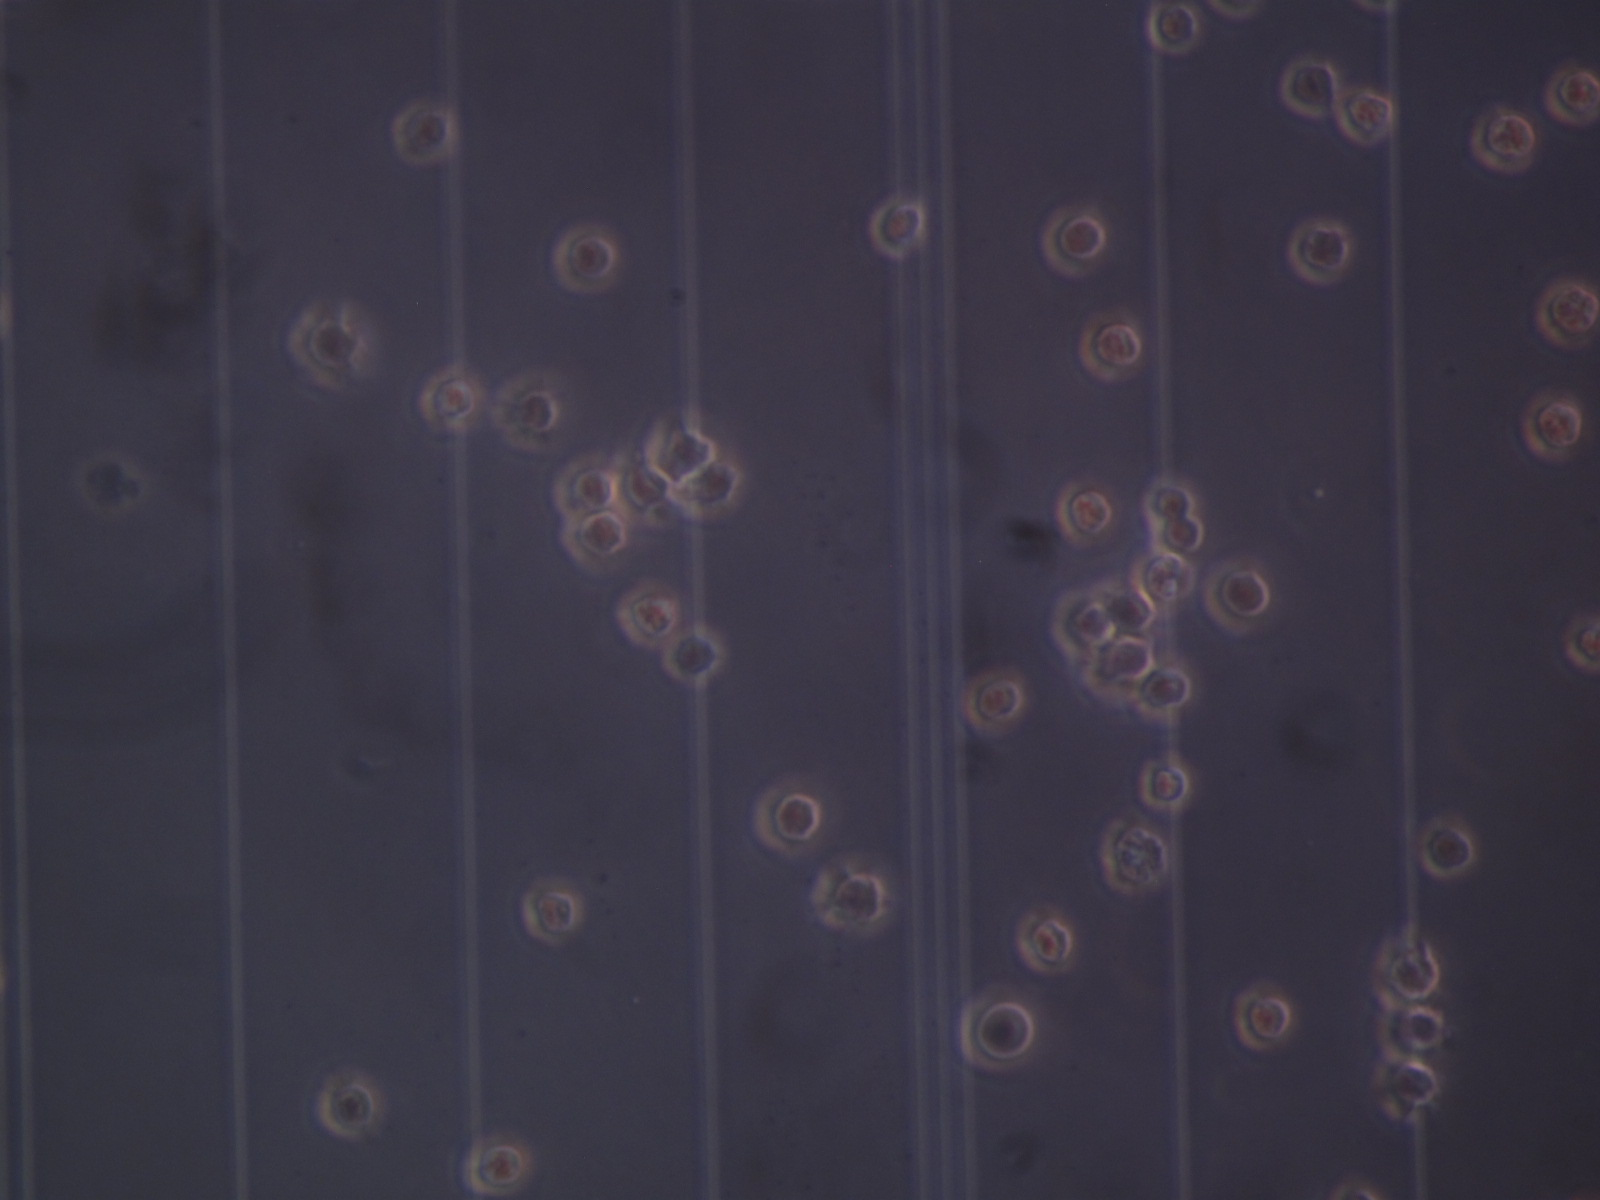hemo: (959, 988, 1032, 1075), (815, 857, 892, 935), (289, 308, 362, 384), (1095, 816, 1165, 894), (750, 782, 821, 857), (1080, 637, 1153, 708), (493, 376, 559, 453), (549, 221, 616, 295), (1051, 586, 1116, 662), (1367, 1058, 1440, 1124), (1204, 561, 1269, 637), (1037, 207, 1104, 279), (414, 366, 484, 434), (1374, 937, 1443, 1005), (461, 1134, 535, 1195), (1536, 282, 1600, 350), (1078, 311, 1141, 379), (1233, 986, 1296, 1054), (1522, 389, 1582, 460), (648, 421, 713, 485), (1471, 108, 1534, 175), (1015, 908, 1078, 974), (1288, 217, 1347, 287), (614, 582, 678, 647), (964, 671, 1026, 736), (562, 514, 627, 574), (1545, 61, 1600, 130), (1376, 1003, 1445, 1059), (391, 106, 454, 166), (317, 1071, 375, 1137), (664, 624, 723, 684), (1056, 482, 1111, 546), (1335, 86, 1393, 146), (1133, 667, 1193, 725), (551, 463, 621, 512), (523, 877, 576, 943), (1279, 59, 1337, 118), (1420, 817, 1475, 879), (1133, 552, 1196, 603), (1100, 579, 1157, 634), (869, 202, 923, 258), (611, 458, 666, 511), (1141, 753, 1192, 811), (670, 466, 738, 509), (1146, 3, 1198, 54), (1141, 476, 1196, 521), (1563, 614, 1600, 671), (1151, 516, 1202, 553)
